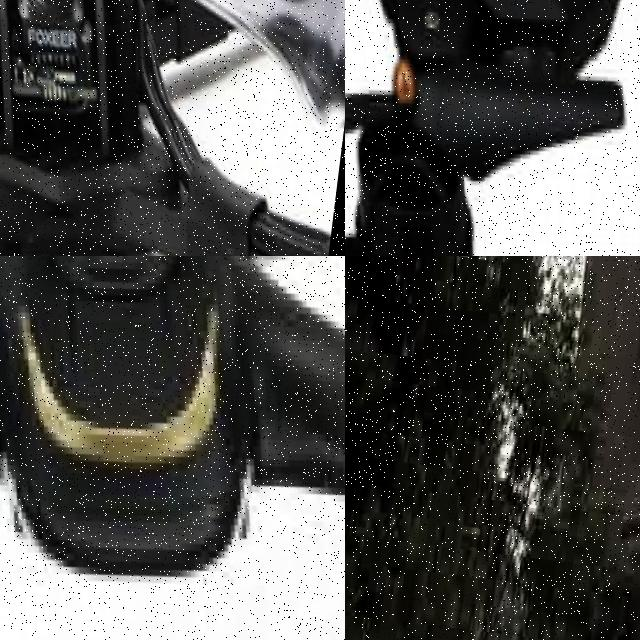drone: (0, 256, 345, 640), (0, 0, 345, 256), (345, 0, 640, 256)
